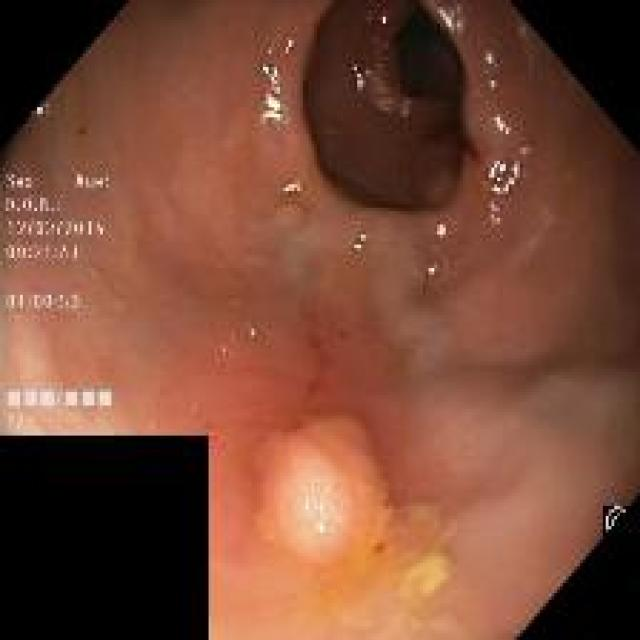Polyps: (259, 416, 392, 564)
